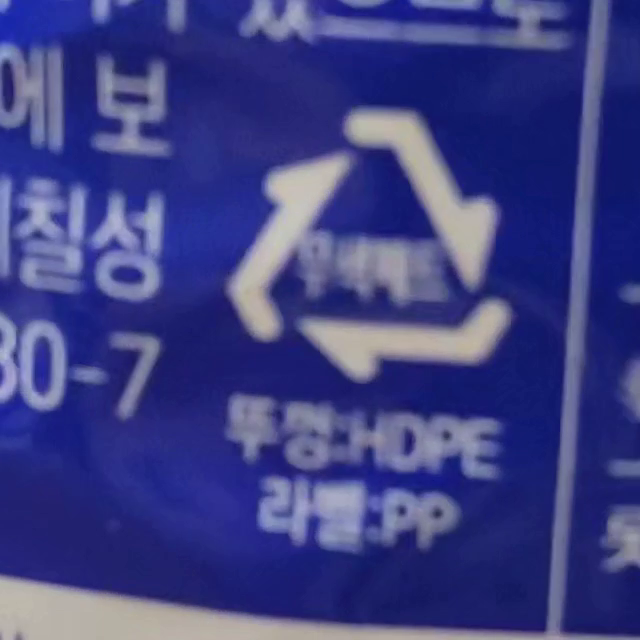ColorlessPet: (224, 110, 509, 382)
